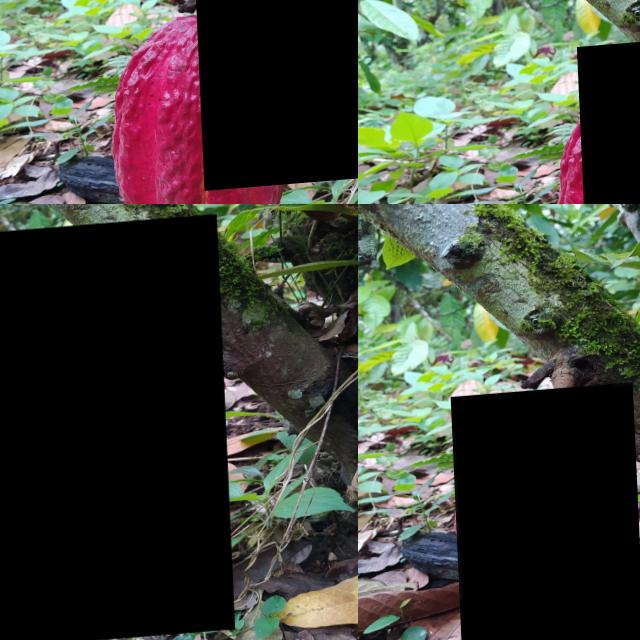Sana: (0, 221, 228, 640), (448, 389, 639, 640), (189, 0, 358, 196)
